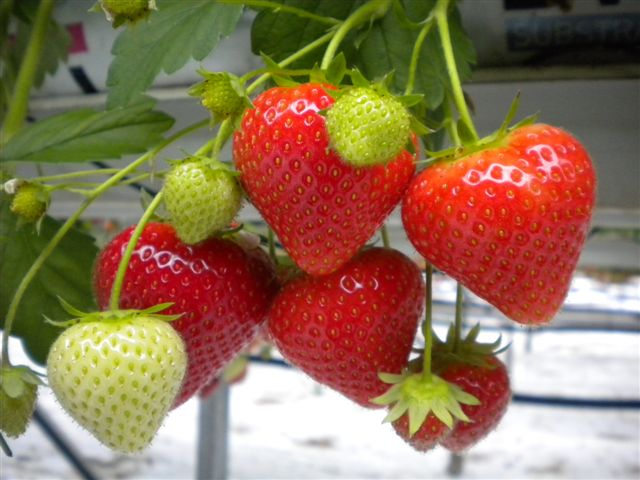StrawberryCircular: (319, 90, 479, 263), (70, 174, 225, 334), (187, 64, 335, 219), (215, 197, 338, 328)
StrawberryIrremovable: (37, 250, 155, 366), (129, 125, 195, 197), (261, 70, 330, 134), (158, 55, 197, 95), (2, 293, 30, 347), (6, 143, 40, 181)
StrawberryOther: (331, 279, 410, 365), (311, 305, 363, 363)
StrawberryRemovable: (321, 92, 478, 263), (72, 175, 226, 331), (186, 66, 334, 220), (218, 199, 337, 327), (332, 280, 410, 364), (312, 307, 362, 362)
